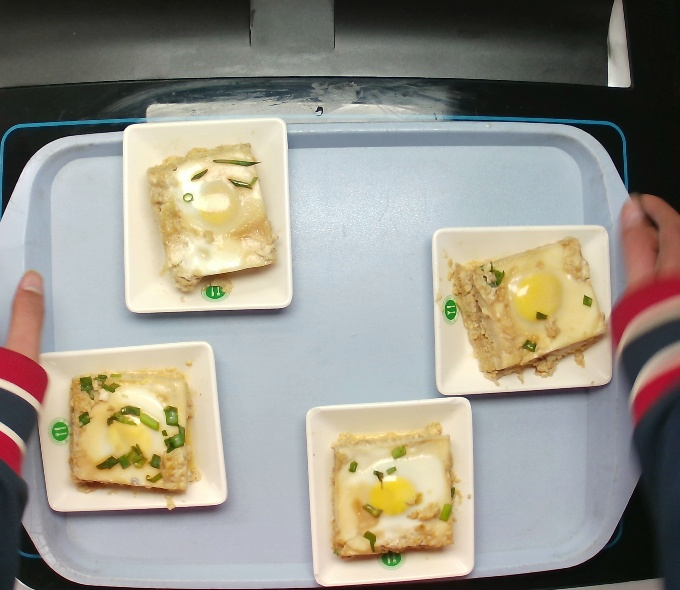wcq-RouMoZhengDan: (444, 228, 610, 393), (139, 134, 285, 304), (51, 358, 203, 509), (322, 416, 454, 567)
